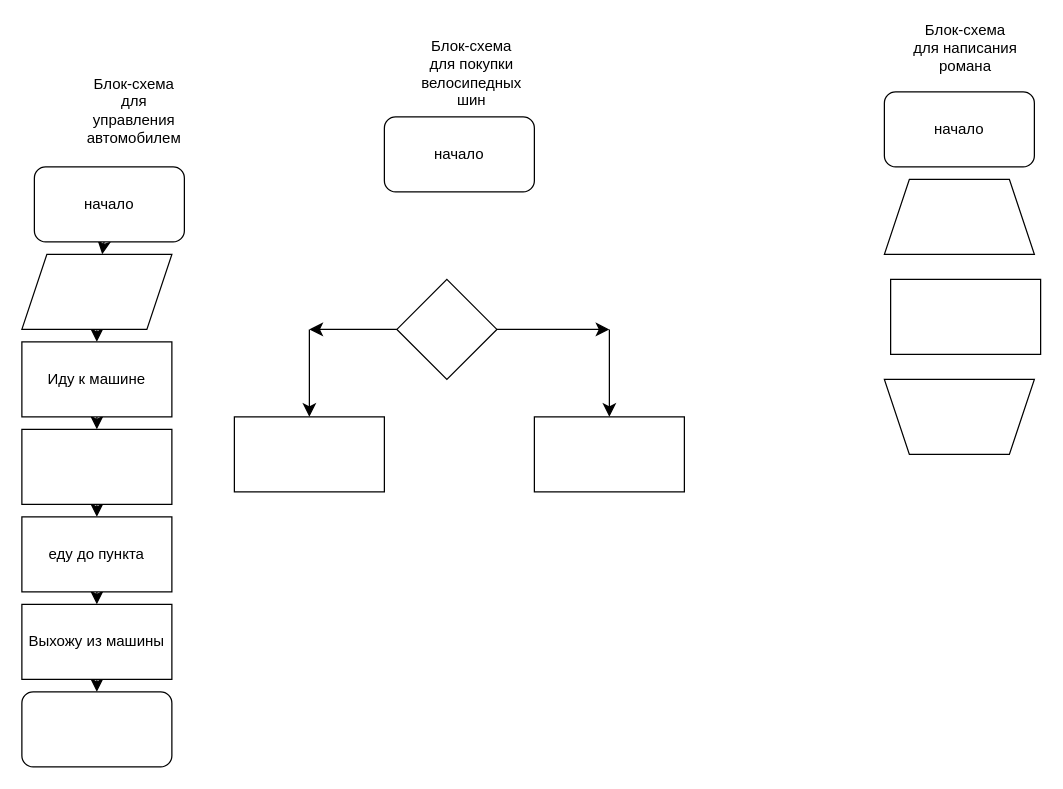
The diagram is 1063 pixels wide and 789 high, and some of its shapes have lost their labels. The centre of each missing label's shape, as x and y in pixels:
беру ключи от машины: [96,291]
Конец: [96,729]
Сажусь: [96,466]
